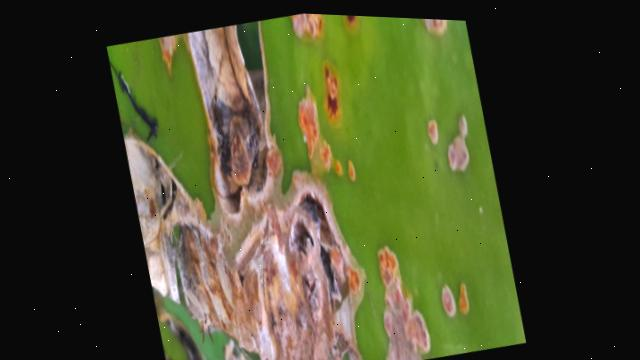stemcanker: (287, 83, 332, 172), (305, 51, 349, 128), (435, 281, 461, 322), (421, 118, 444, 149), (458, 280, 472, 318), (347, 155, 357, 184)
